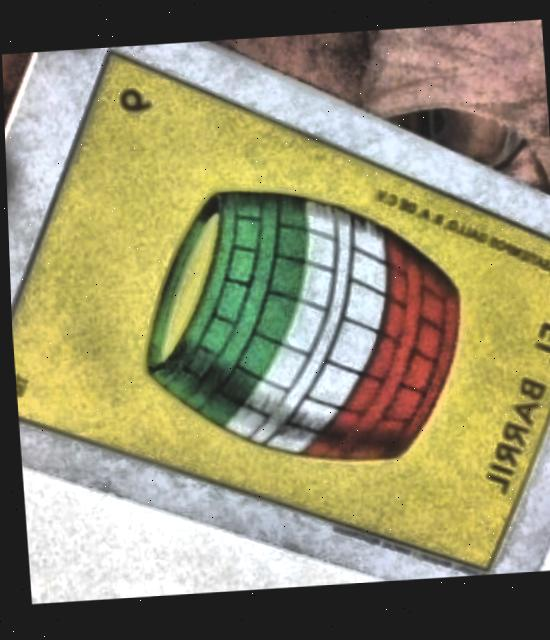El Barril: (9, 61, 550, 571)
